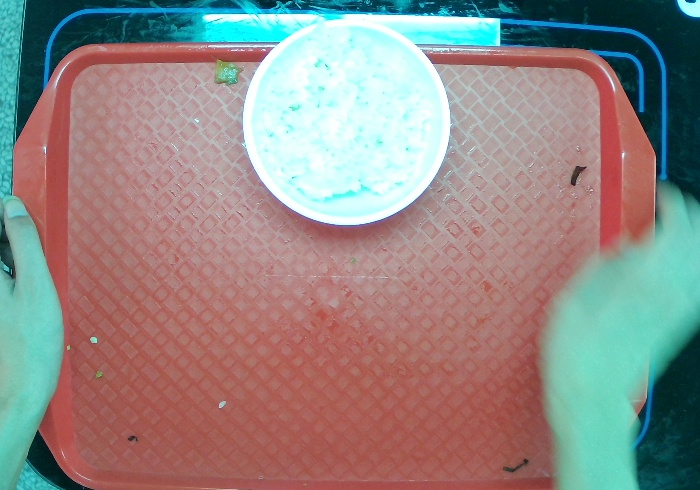YKMZ-Fan_Wan: (236, 12, 456, 234)
